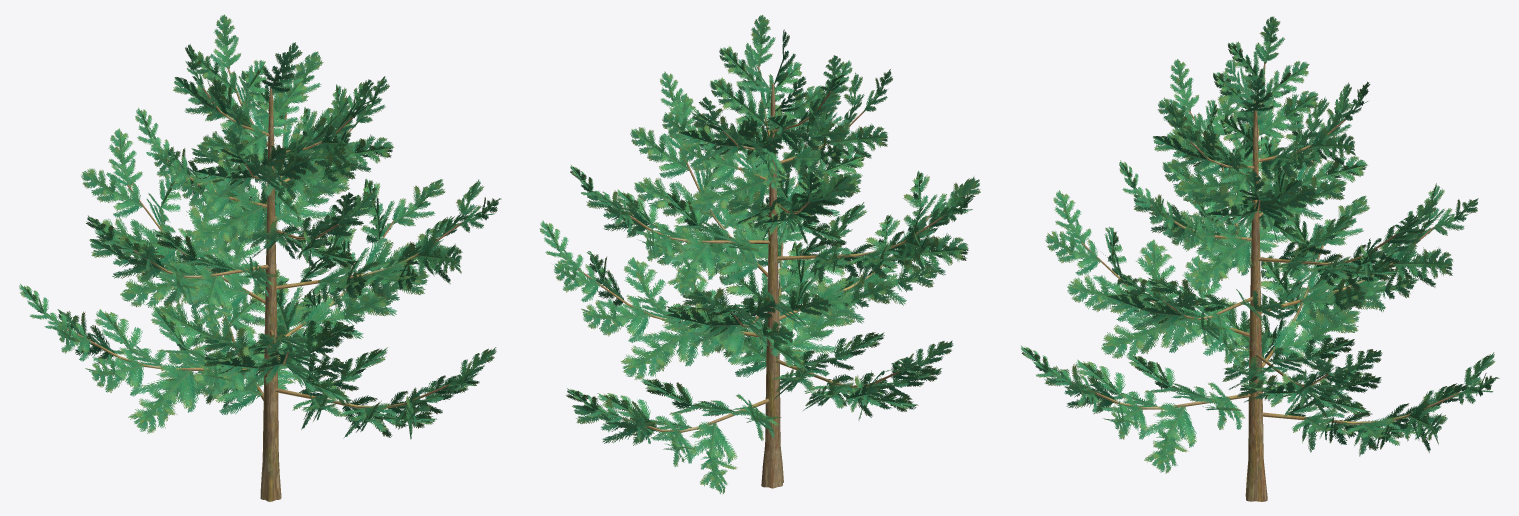
Rendered from MS_ConiferB02.fbx.
3 renders of one model, left to right at view 1: azimuth 30°, elevation 25°; view 2: azimuth 150°, elevation 25°; view 3: azimuth 270°, elevation 25°, orthographic. The views are drawn at different scales.
Parts seen in each view (by area): view 1: MS_ConiferB02; view 2: MS_ConiferB02; view 3: MS_ConiferB02.
Part boxes in pixels (x1,y1,x2,y2): MS_ConiferB02: [19, 14, 501, 501]; MS_ConiferB02: [539, 15, 980, 493]; MS_ConiferB02: [1021, 16, 1499, 501].
Bounding box in the file's own units: 421 × 452 × 447.
